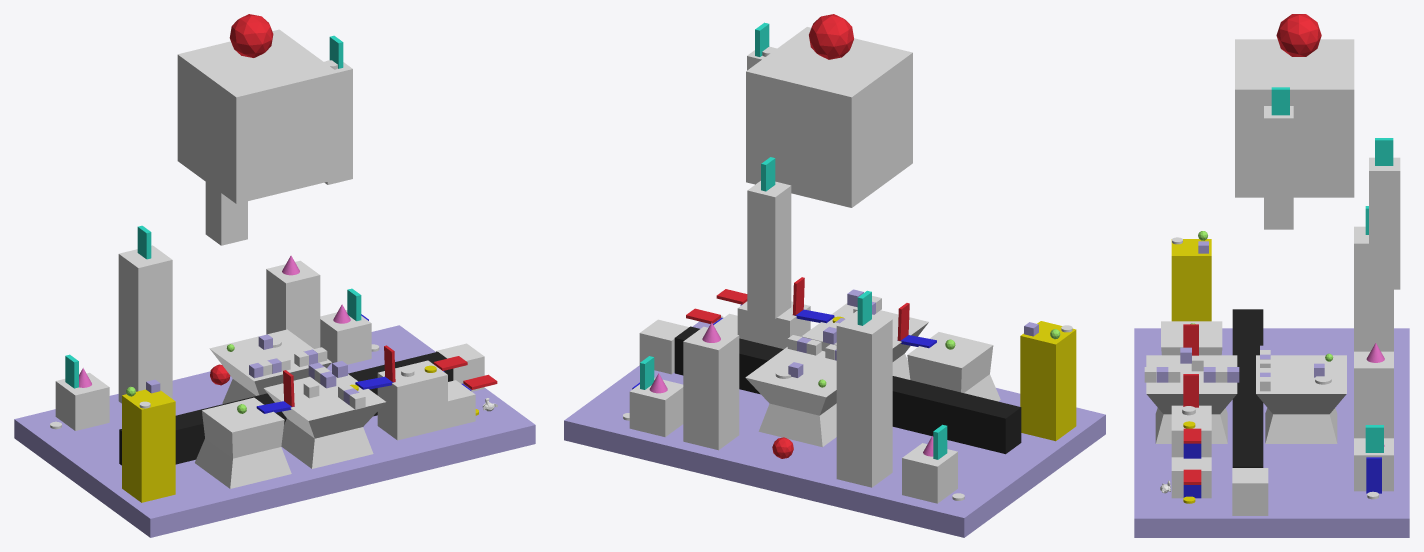
3 renders of one model, left to right at view 1: azimuth 30°, elevation 25°; view 2: azimuth 150°, elevation 25°; view 3: azimuth 270°, elevation 25°, orthographic. The views are drawn at different scales.
Parts seen in each view (by area): view 1: Cube, Cube.001, Cube.032, Cube.003, Cube.007, Cube.004, Cube.008, Cube.031, Cube.021, Cube.030, Cube.006, Cube.005 (+4 smaller); view 2: Cube, Cube.001, Cube.032, Cube.030, Cube.021, Cube.031, Cube.004, Cube.034, Cube.007, Cube.006, Cube.005, Cube.008 (+3 smaller); view 3: Cube, Cube.001, Cube.021, Cube.030, Cube.034, Cube.003, Cube.035, Cube.032, Cube.004, Cube.031, Cube.008, Cube.040 (+9 smaller).
Boxes of the visible parts, x1,y1,x2,y2 form: Cube: (14,325,535,537); Cube.001: (177,29,338,203); Cube.032: (118,245,172,403); Cube.003: (264,371,385,468); Cube.007: (195,397,291,488); Cube.004: (122,389,175,502); Cube.008: (377,360,475,440); Cube.031: (266,260,320,348); Cube.021: (209,329,331,403); Cube.030: (119,351,452,465); Cube.006: (55,372,109,430); Cube.005: (320,310,371,364); Cube: (564,321,1105,537); Cube.001: (746,27,912,207); Cube.032: (836,311,892,487); Cube.030: (674,326,1021,454); Cube.021: (745,347,836,447); Cube.031: (683,326,739,450); Cube.004: (1020,321,1076,441); Cube.034: (747,181,791,318); Cube.007: (907,332,1000,401); Cube.006: (902,443,957,503); Cube.005: (629,377,683,436); Cube.008: (713,301,810,349); Cube: (1134,328,1409,537); Cube.001: (1235,39,1354,197); Cube.021: (1256,355,1346,443); Cube.030: (1232,309,1263,467); Cube.034: (1369,157,1400,289); Cube.003: (1146,355,1237,443); Cube.035: (1264,106,1293,229); Cube.032: (1354,226,1393,351); Cube.004: (1171,239,1211,321); Cube.031: (1354,351,1393,438); Cube.008: (1171,405,1211,498); Cube.040: (1232,468,1268,515).
Bounding box in the file's own units: 539564 × 559366 × 330428.
